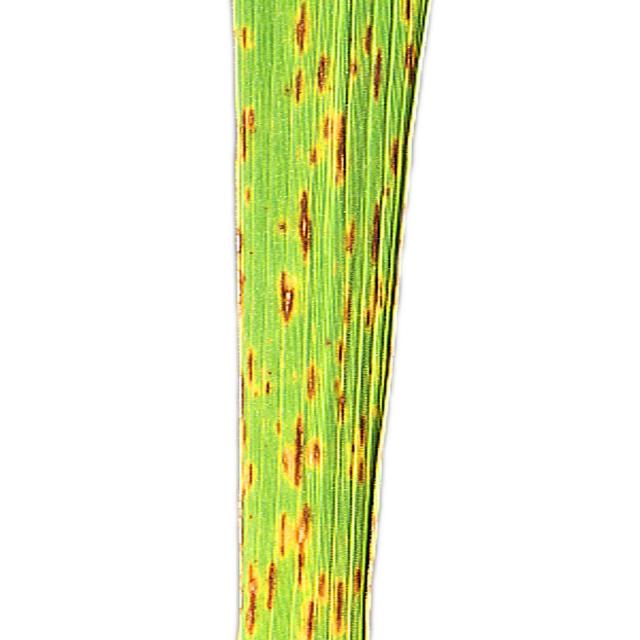Narrow brown: (188, 0, 450, 640)
